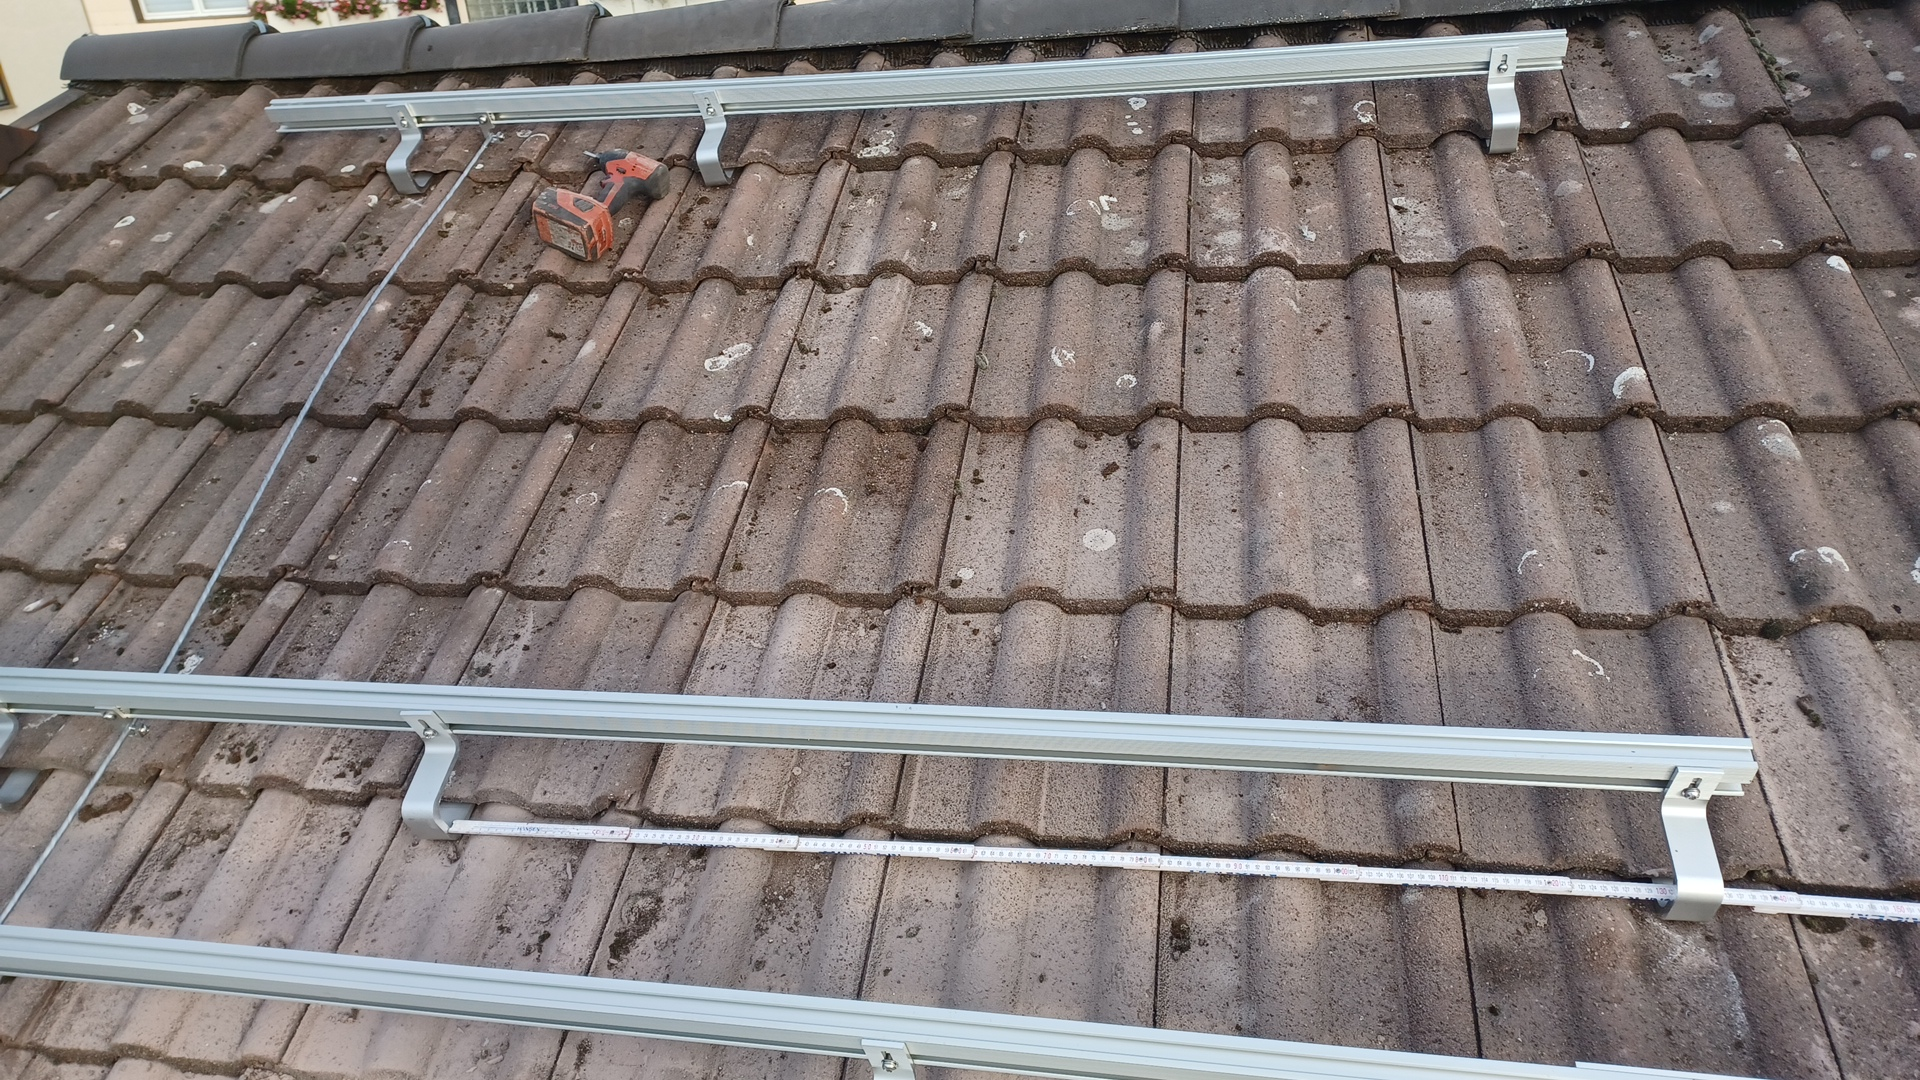hook: (1652, 766, 1724, 920), (400, 711, 477, 840), (1, 702, 42, 814), (385, 102, 435, 193), (692, 90, 735, 185), (1486, 46, 1520, 153), (861, 1039, 915, 1080)
